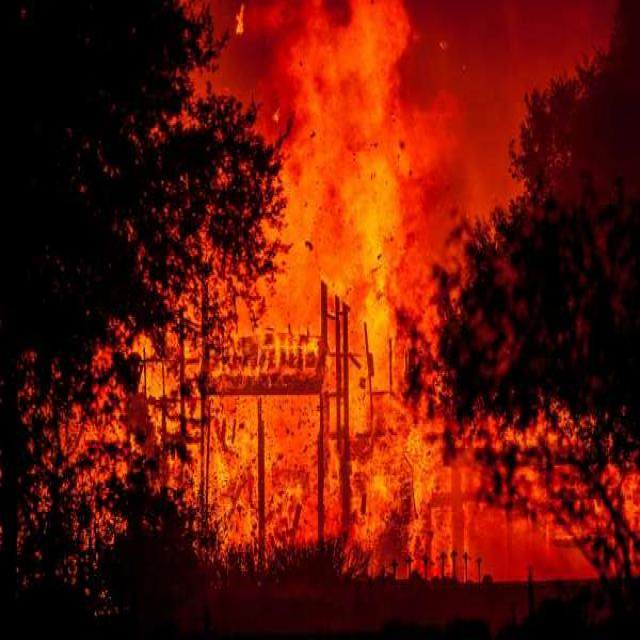Fire: (185, 9, 422, 572), (312, 378, 628, 562), (37, 336, 300, 543)
